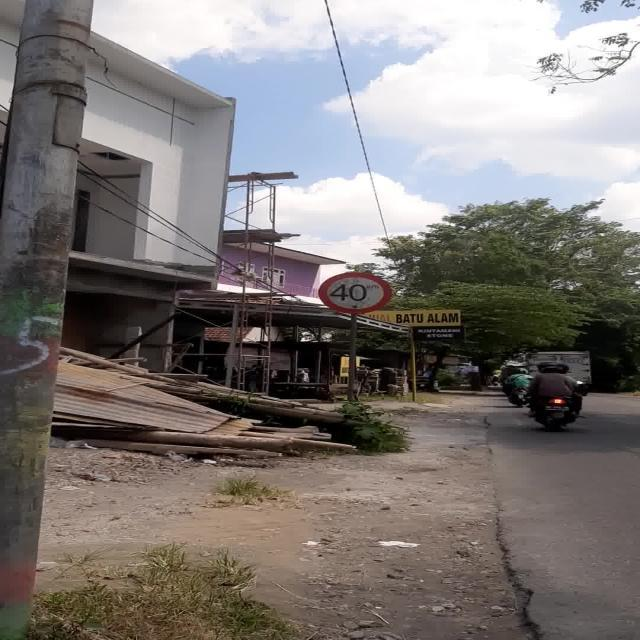Kecepatan Maks. 40 km: (318, 272, 391, 314)
